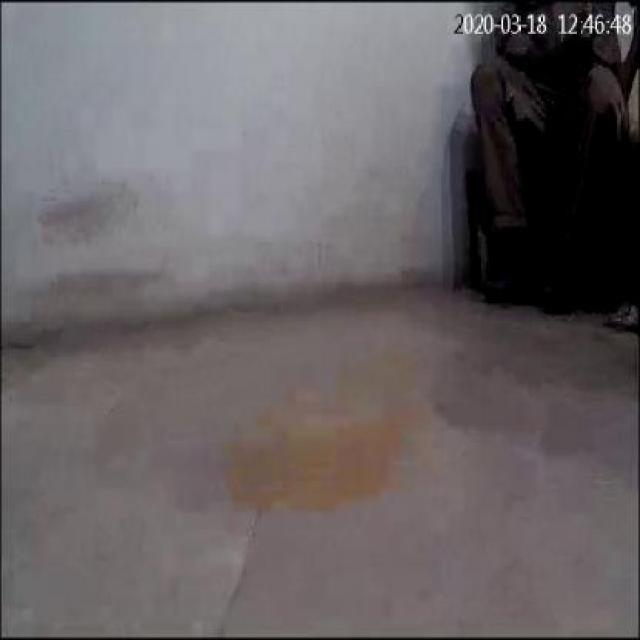spill: (219, 406, 430, 508)
